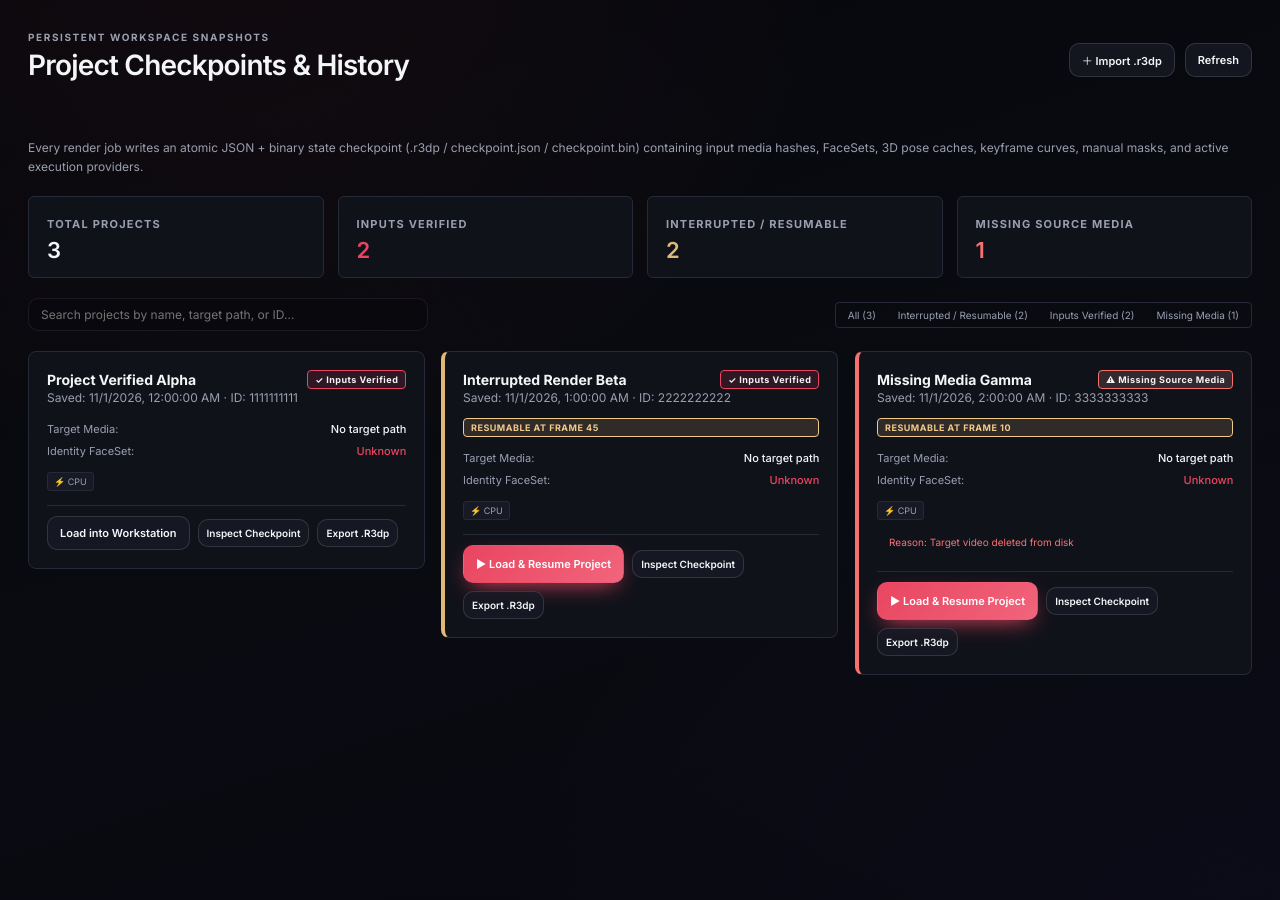
Test: HistoryScreen › opens checkpoint inspection modal showing atomic JSON + binary state details
The width and height of the screenshot is (1280, 900).
Step 1. Click the button "Inspect Checkpoint" below "11/1/2026, 12:00:00 AM" → x=253, y=533, box x1=198 y1=519 x2=309 y2=547
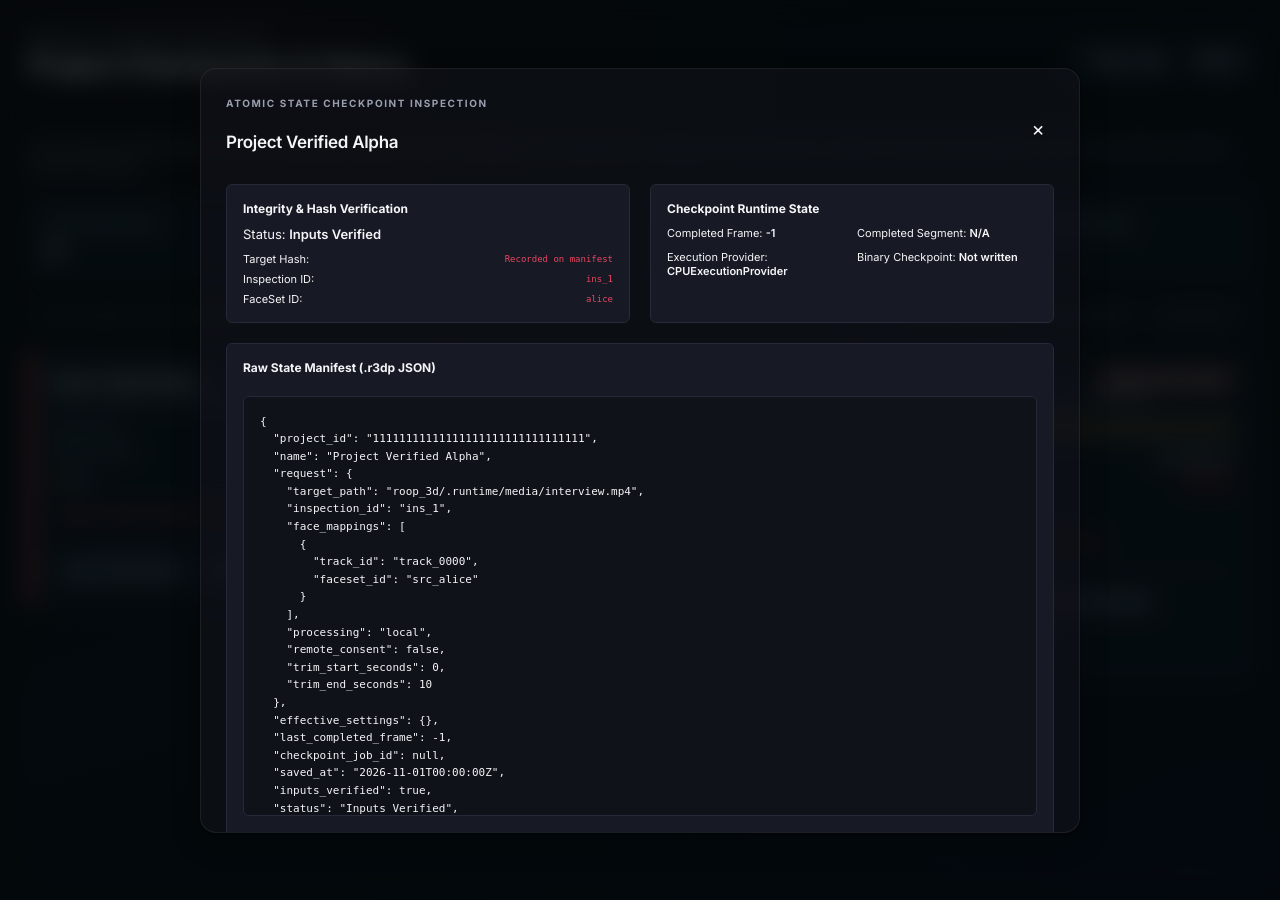
Expected: the text "ATOMIC STATE CHECKPOINT INSPECTION" is shown, x1=226 y1=96 x2=488 y2=108
Expected: the text "Integrity & Hash Verification" is shown, x1=243 y1=200 x2=408 y2=216
Expected: the text "Checkpoint Runtime State" is shown, x1=667 y1=200 x2=820 y2=216
